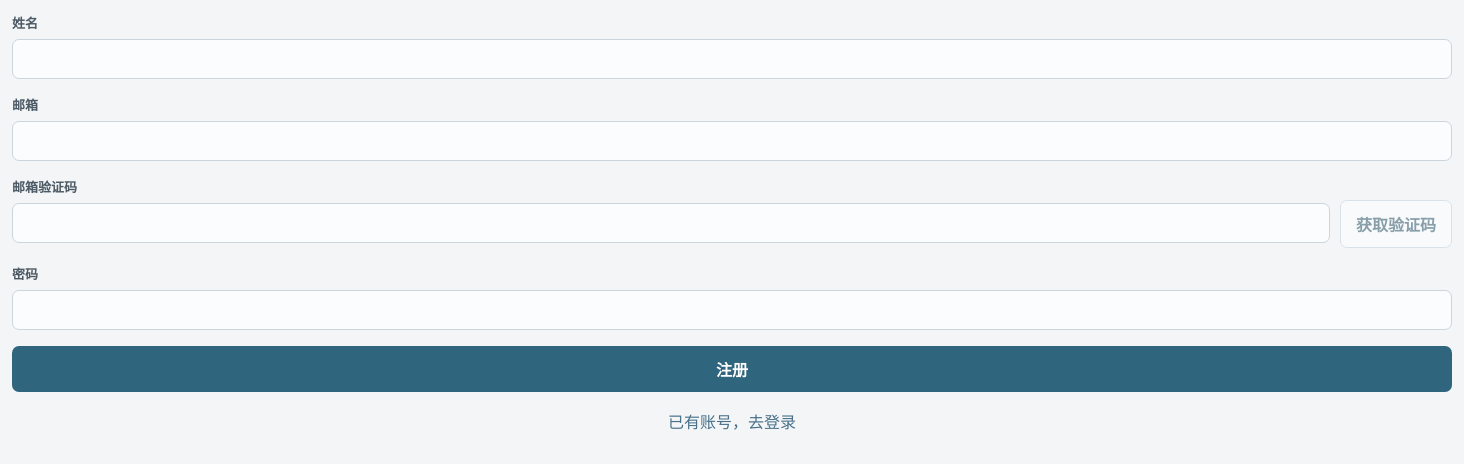
Test case: web app › explains that a registration code must be requested instead of disabling registration
This screenshot has width=1464, height=464.
Step 1. Type "王明" into the field labelled "姓名" → (732, 59), box [12,39,1452,79]
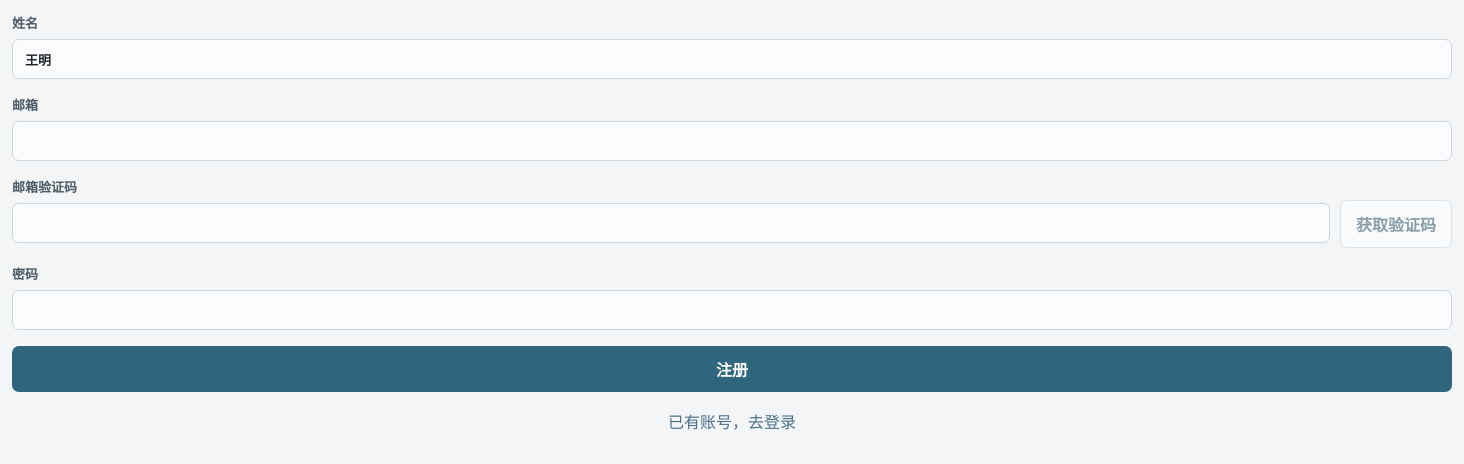
Step 2. Type "wang@example.com" into the field labelled "邮箱" → (732, 141), box [12,121,1452,161]
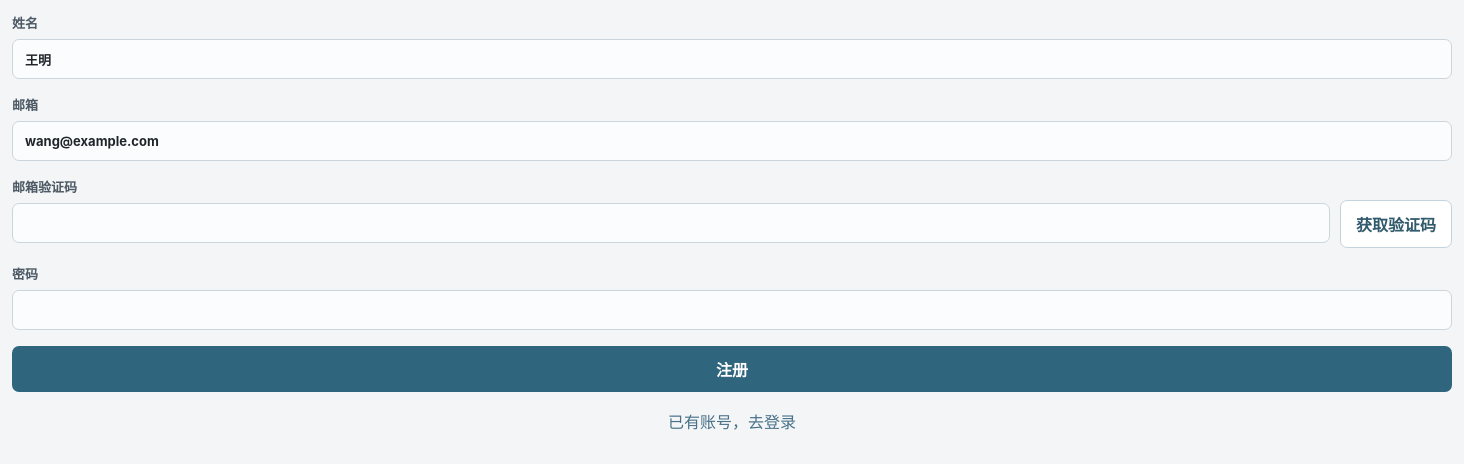
Step 3. Type "correct horse battery staple" into the password field labelled "密码" → (732, 310), box [12,290,1452,330]
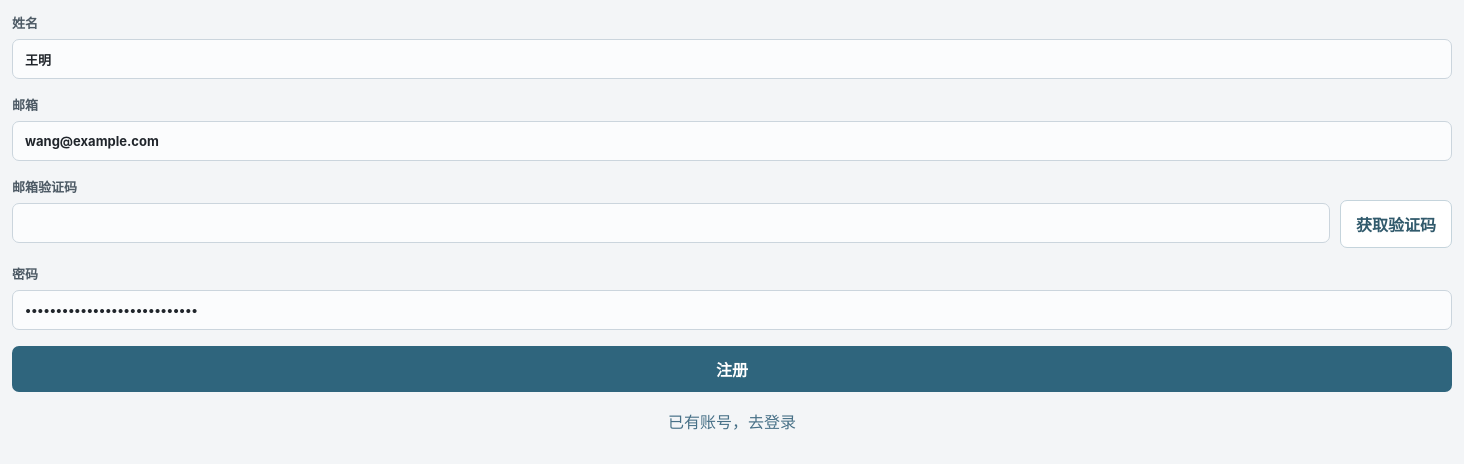
Step 4. Click the button "注册" → (732, 369), box [12,346,1452,392]
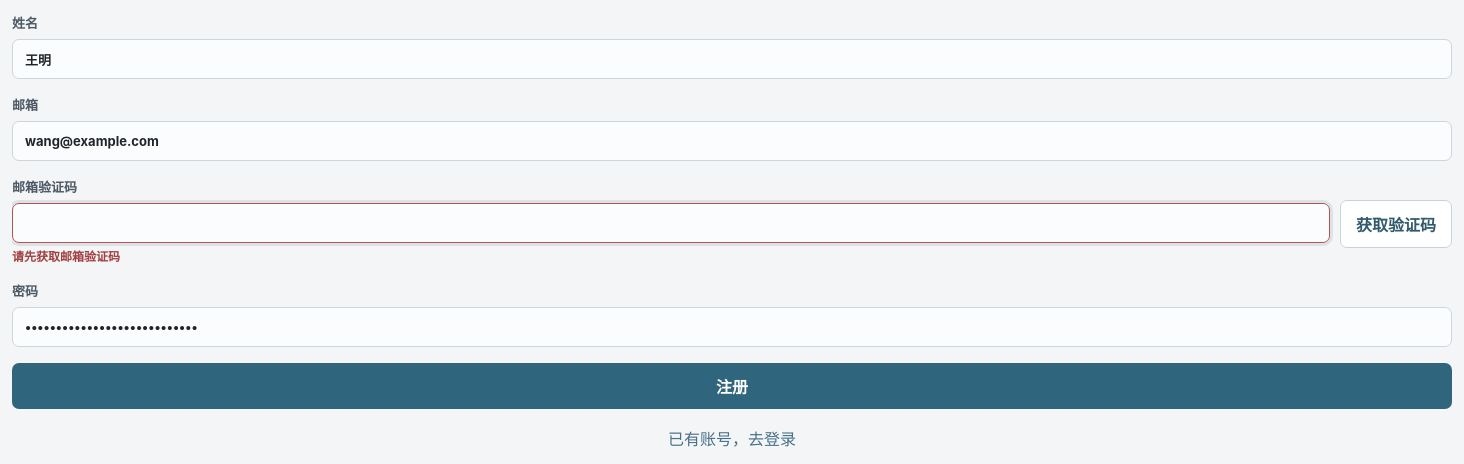
expect the button "注册" is enabled: met, box [12,363,1452,409]
expect the text "请先获取邮箱验证码" is shown: met, box [12,249,120,264]
